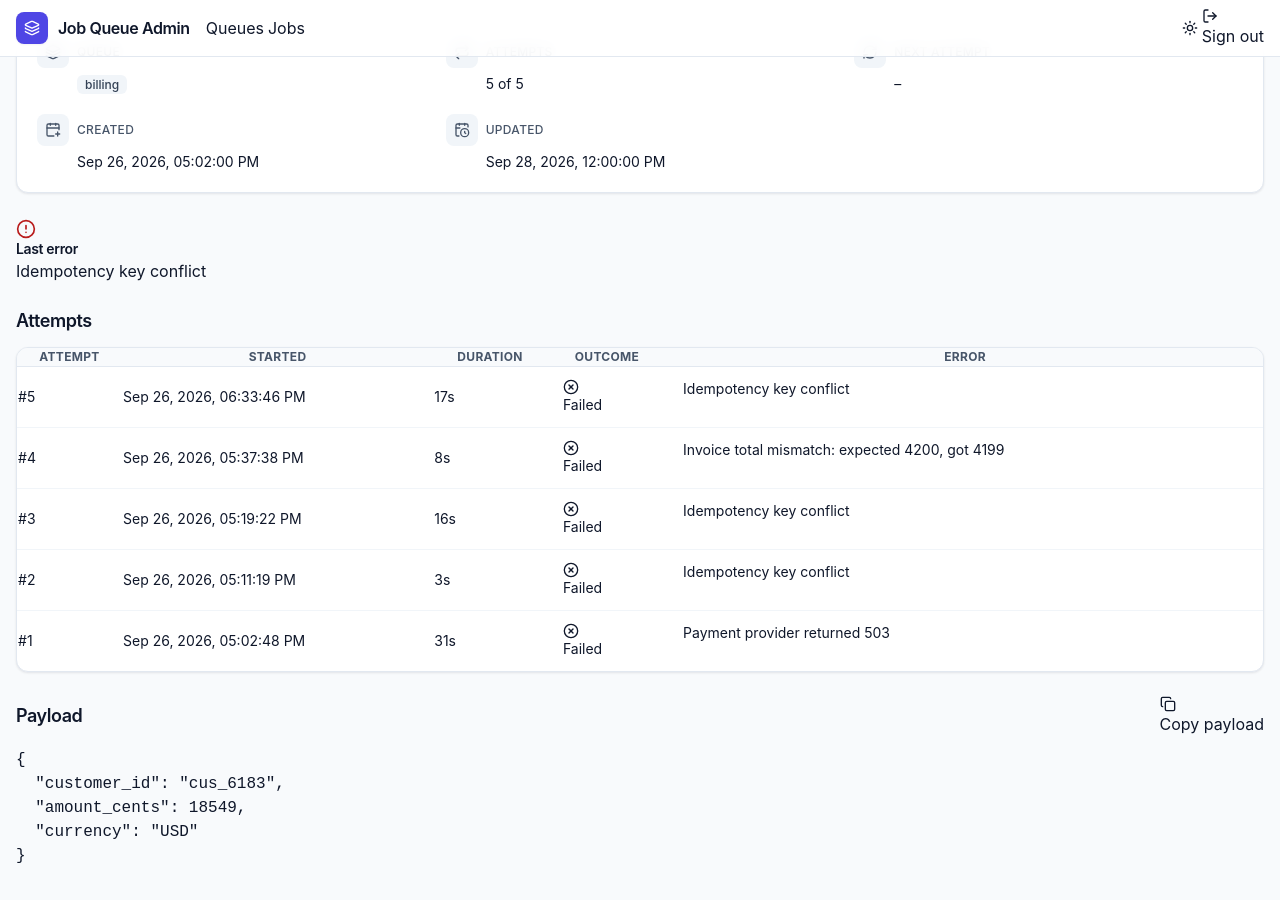
copy payload fallback › still copies when the async Clipboard API is unavailable
(page scrolled)
Click the button "Copy payload" at (1212, 716), box [1160,696,1264,736]
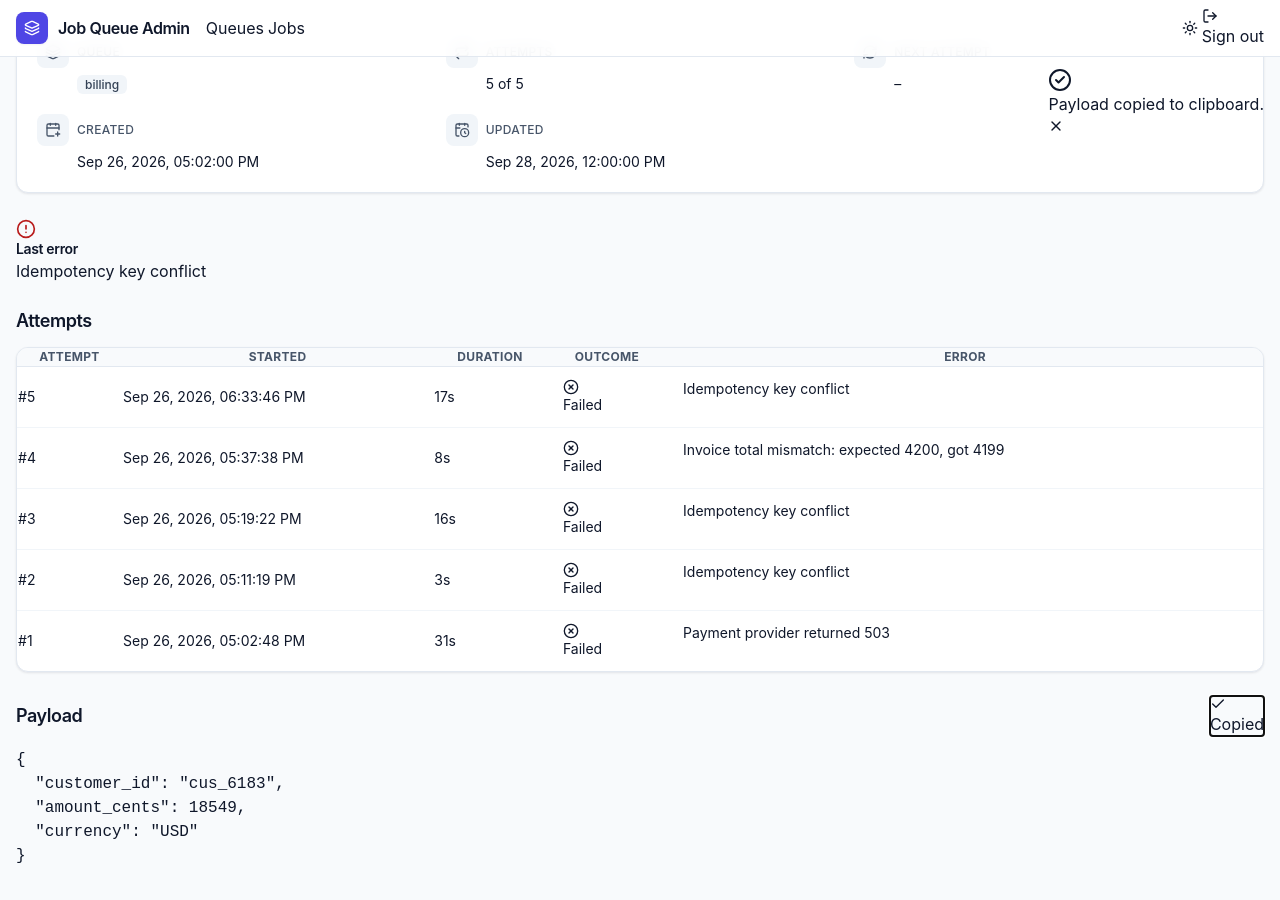
Now the button "Copied" is shown, box [1210,696,1264,736]
